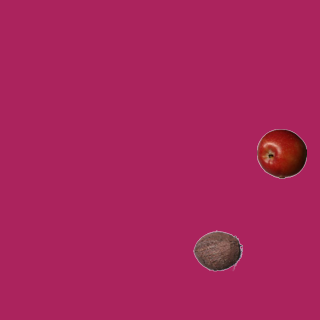Apple Braeburn: (256, 128, 306, 178)
Cocos: (192, 225, 242, 275)
